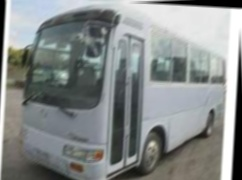bus: (19, 2, 231, 180)
